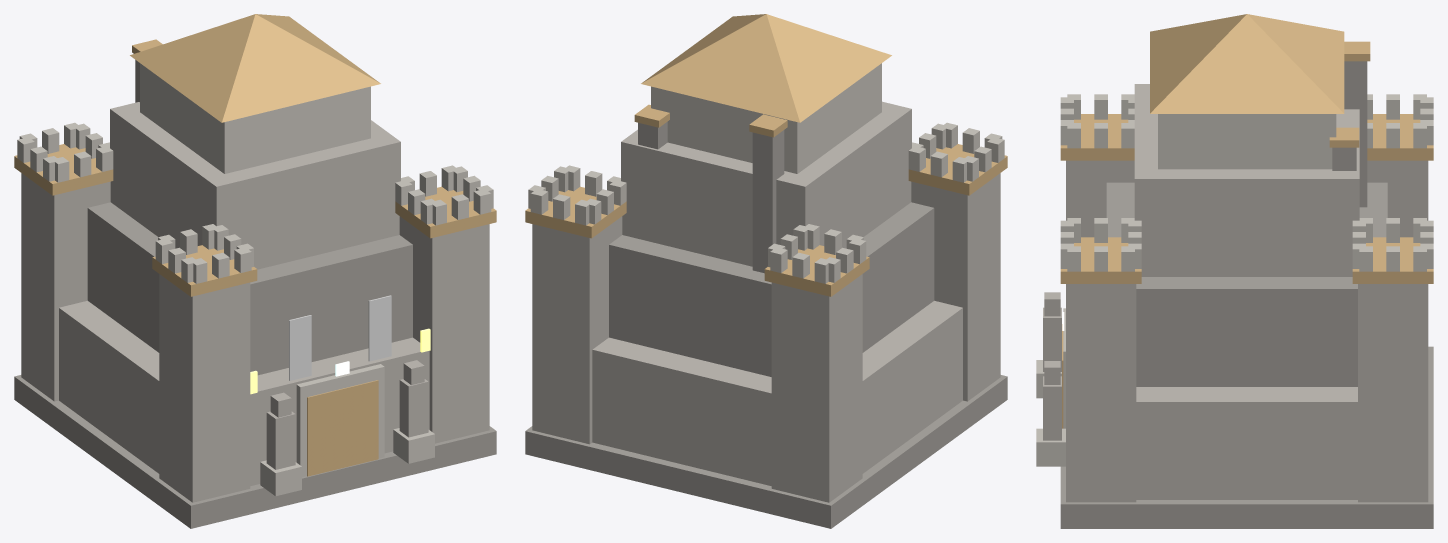
The picture shows the model from 3 angles, left to right: view 1: azimuth 30°, elevation 25°; view 2: azimuth 150°, elevation 25°; view 3: azimuth 270°, elevation 25°; orthographic projection. The views are drawn at different scales.
Visible parts, largest first — view 1: body; view 2: body; view 3: body.
Part boxes in pixels (x1,y1,x2,y2): body: (14,14,496,528); body: (525,14,1007,528); body: (1036,14,1433,528).
Bounding box in the file's own units: 13.8 × 17.8 × 14.7.
